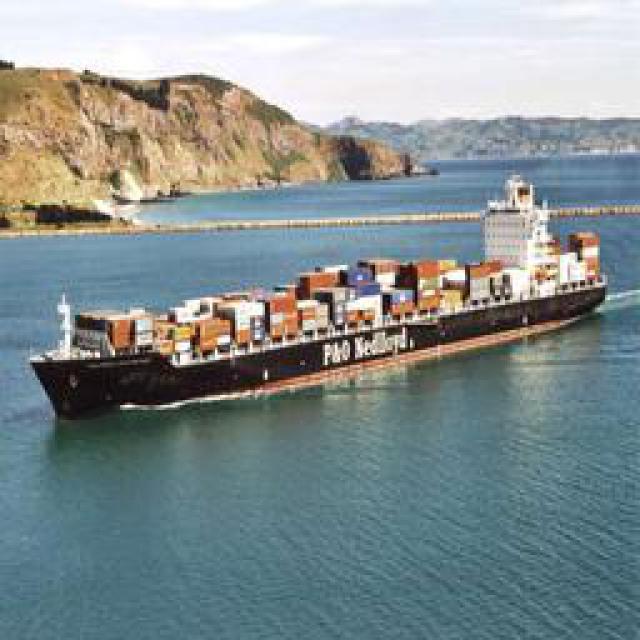Ship: (39, 173, 609, 421)
